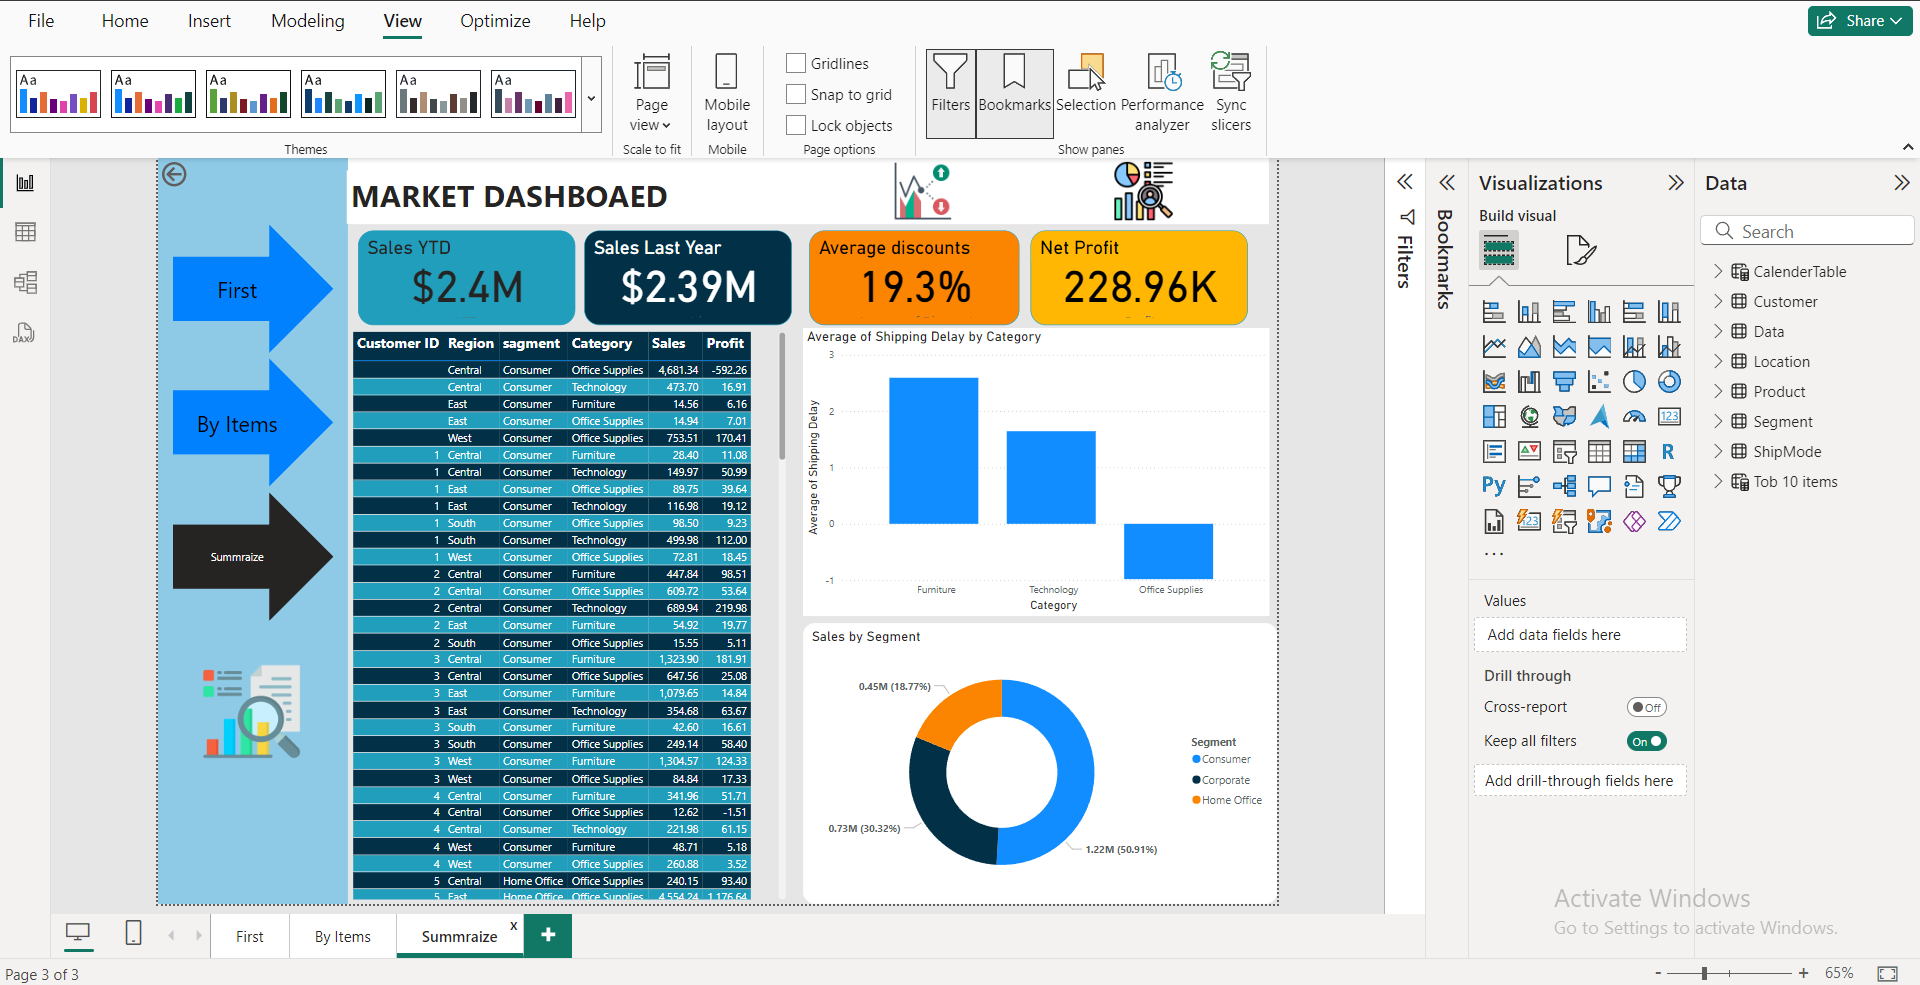

What the dashboard file says about the page in this screenshot:
{"tool":"powerbi","page":{"name":"Summraize ","canvas":[1380,920],"ordinal":2},"visuals":[{"type":"shape","box":[0,0,234.2,920],"z":0},{"type":"shape","box":[234.2,0,1135.7,81.7],"z":1000},{"type":"textbox","box":[233.5,15.1,468.4,65.9],"z":2000},{"type":"pageNavigator","box":[18.3,81.7,198.3,491.7],"z":3000},{"type":"card","title":"Sales YTD","fields":{"Values":["Data.YTD"]},"box":[246.6,89.4,268.1,117.1],"z":4000},{"type":"card","title":"Sales Last Year","fields":{"Values":["CalenderTable.pytd"]},"box":[525.5,89.4,255.8,117.1],"z":5000},{"type":"card","title":"Net Profit","fields":{"Values":["Sum(Data.Profit)"]},"box":[1075.6,89.4,268.1,117.1],"z":6000},{"type":"card","title":"Average discounts","fields":{"Values":["Avg(Data.Discount)"]},"box":[802.9,89.4,258.9,117.1],"z":7000},{"type":"donutChart","fields":{"Y":["Sum(Data.Sales)"],"Category":["Segment.Segment"]},"box":[795,573.3,585,346.7],"z":8000},{"type":"tableEx","fields":{"Values":["Data.Customer ID","Location.Region","Data.sagment","Product.Category","Sum(Data.Sales)","Sum(Data.Profit)"]},"box":[235,210,545,710],"z":9000},{"type":"actionButton","box":[0,0,100,40],"z":10000},{"type":"columnChart","fields":{"Y":["Avg(Data.Shipping Delay)"],"Category":["Product.Category"]},"box":[795,210,575,355],"z":11000},{"type":"image","box":[1111.1,0,208,81.7],"z":11001},{"type":"image","box":[861.4,0,163.4,81.7],"z":11002},{"type":"image","box":[44.7,614.9,141.8,135.6],"z":11003}]}

Visuals, with their boxes on the page's 1380x920 design canvas (x1, y1, x2, y2). These are canvas units, not pixel positions in the 1920x985 screenshot, which may show the page scaled, cropped or inside an application window:
shape: {"x1": 0, "y1": 0, "x2": 234, "y2": 920}
shape: {"x1": 234, "y1": 0, "x2": 1370, "y2": 82}
textbox: {"x1": 234, "y1": 15, "x2": 702, "y2": 81}
pageNavigator: {"x1": 18, "y1": 82, "x2": 217, "y2": 573}
"Sales YTD" card: {"x1": 247, "y1": 89, "x2": 515, "y2": 206}
"Sales Last Year" card: {"x1": 526, "y1": 89, "x2": 781, "y2": 206}
"Net Profit" card: {"x1": 1076, "y1": 89, "x2": 1344, "y2": 206}
"Average discounts" card: {"x1": 803, "y1": 89, "x2": 1062, "y2": 206}
donutChart - Sum(Data.Sales) x Segment.Segment: {"x1": 795, "y1": 573, "x2": 1380, "y2": 920}
tableEx - Data.Customer ID x Location.Region: {"x1": 235, "y1": 210, "x2": 780, "y2": 920}
actionButton: {"x1": 0, "y1": 0, "x2": 100, "y2": 40}
columnChart - Avg(Data.Shipping Delay) x Product.Category: {"x1": 795, "y1": 210, "x2": 1370, "y2": 565}
image: {"x1": 1111, "y1": 0, "x2": 1319, "y2": 82}
image: {"x1": 861, "y1": 0, "x2": 1025, "y2": 82}
image: {"x1": 45, "y1": 615, "x2": 186, "y2": 750}
